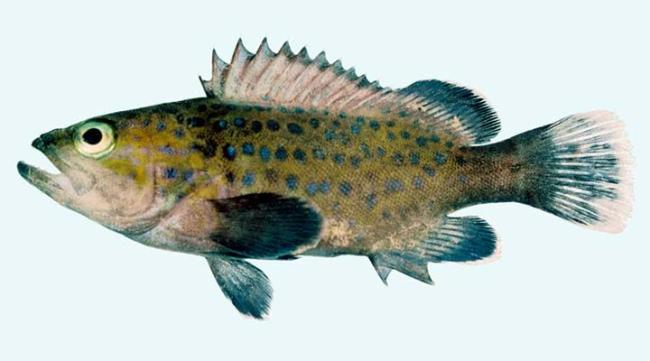fish: (16, 36, 636, 321)
